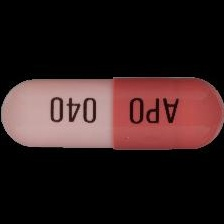63187-170: (0, 0, 224, 224)
